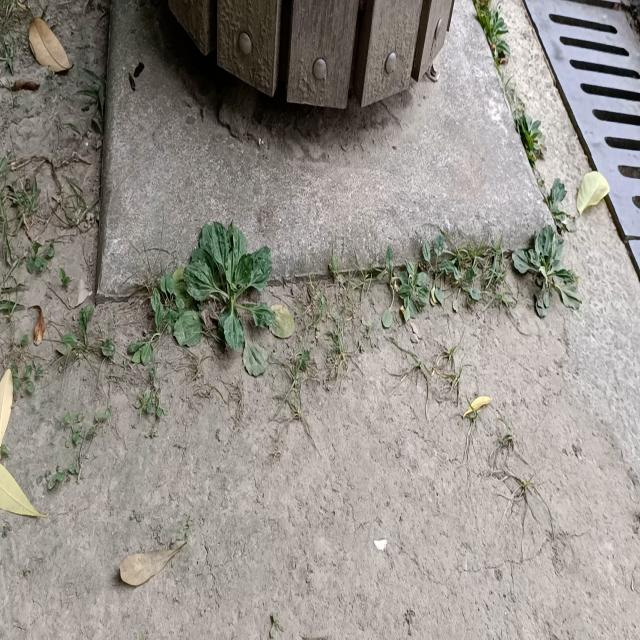cement: (95, 0, 551, 301), (493, 0, 640, 480)
grass: (129, 221, 281, 375), (328, 231, 515, 322), (511, 179, 580, 317), (0, 180, 54, 316), (473, 0, 514, 98), (512, 105, 544, 169), (58, 300, 93, 356), (78, 69, 106, 131)
white-sand: (0, 0, 640, 639)
